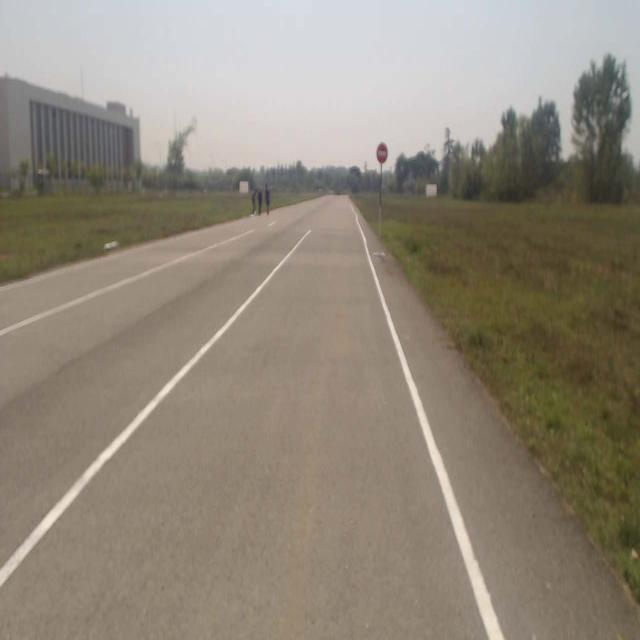girisyok: (376, 143, 388, 163)
